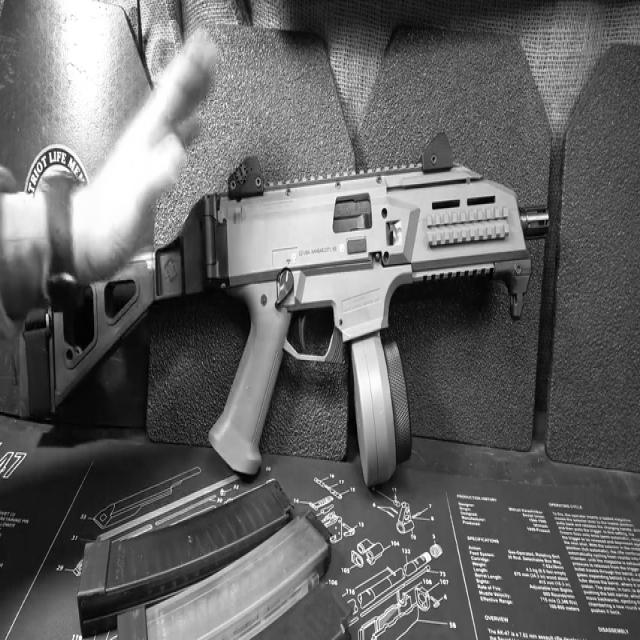Sub-machine-gun: (79, 148, 549, 528)
